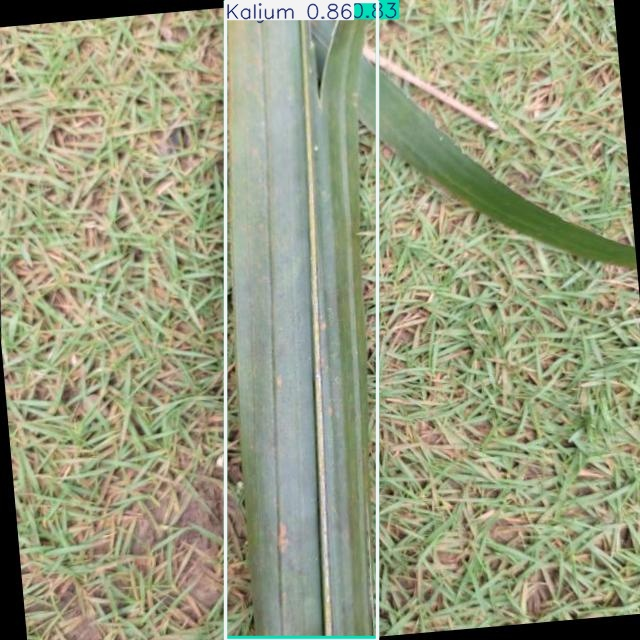Kalium: (225, 2, 378, 640)
Megnesium: (226, 0, 377, 638)
